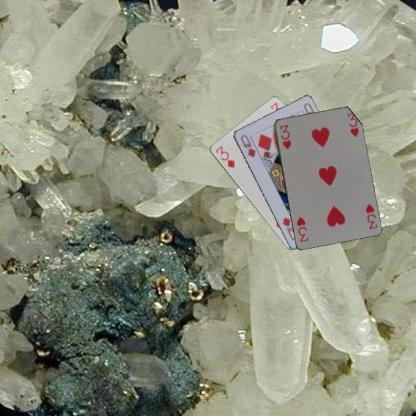3d: (212, 144, 235, 170)
3h: (363, 201, 378, 230), (278, 122, 292, 151)
Qd: (238, 132, 256, 158)
